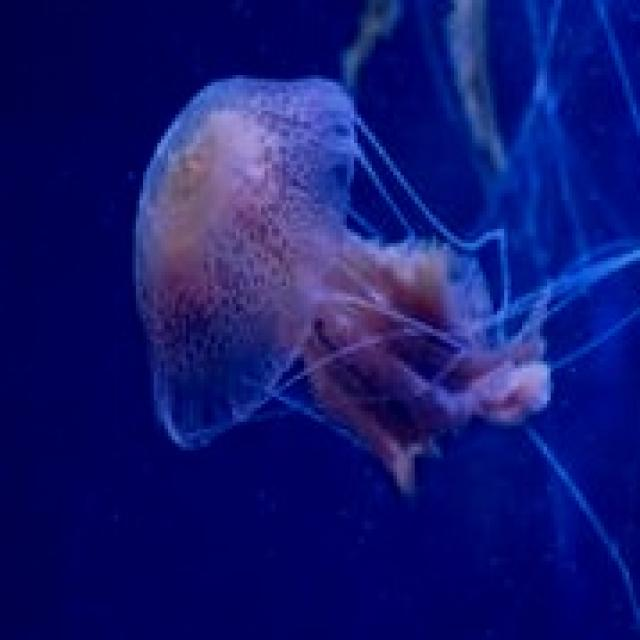Moon-jellyfish: (129, 68, 636, 636)
